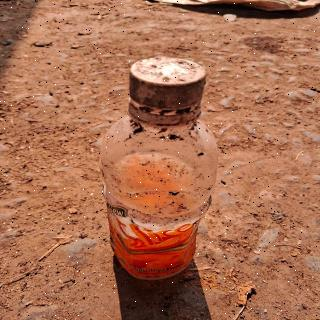Plastic-bottle: (94, 55, 230, 289)
